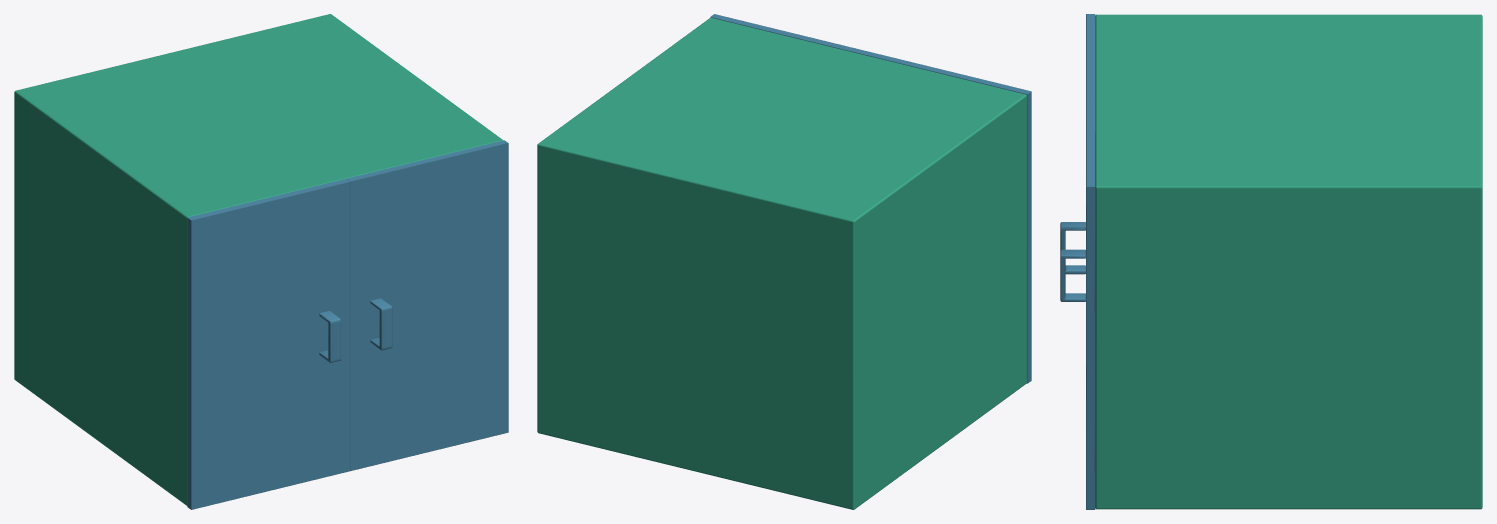
Rendered from Cabinet.fbx.
3 renders of one model, left to right at view 1: azimuth 30°, elevation 25°; view 2: azimuth 150°, elevation 25°; view 3: azimuth 270°, elevation 25°, orthographic. The views are drawn at different scales.
Visible parts, largest first — view 1: Cabinet, Left_cabinet_door, Right_cabinet_door; view 2: Cabinet, Left_cabinet_door, Right_cabinet_door; view 3: Cabinet, Right_cabinet_door, Left_cabinet_door.
Part boxes in pixels (x1,y1,x2,y2): Cabinet: (14,14,503,505); Left_cabinet_door: (187,179,349,509); Right_cabinet_door: (346,140,508,471); Cabinet: (537,17,1026,509); Left_cabinet_door: (869,52,1031,383); Right_cabinet_door: (710,14,872,55); Cabinet: (1095,14,1482,509); Right_cabinet_door: (1060,100,1095,509); Left_cabinet_door: (1060,14,1095,274).
Bounding box in the file's own units: 52.39 × 45.69 × 54.07.
2 materials, 2 textured.
